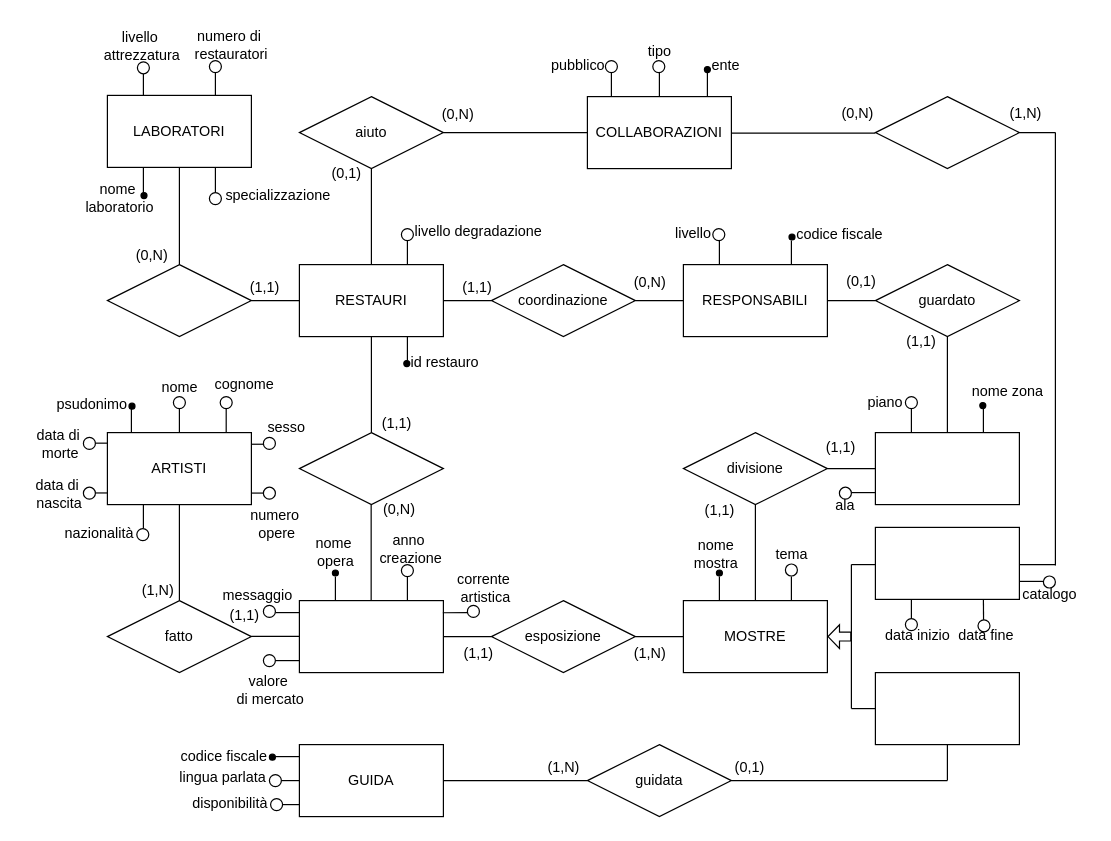
Some shapes in this 1111 by 841 pixel diagram are drawn without their labels. The centre of each missing label's shape, as x and y in pixels:
avvenuto: [178,300]
concesso: [946,132]
OPERE: [370,636]
PERMANENTI: [946,708]
restauro: [370,468]
TEMPORANEE: [946,562]
ZONE: [946,468]
